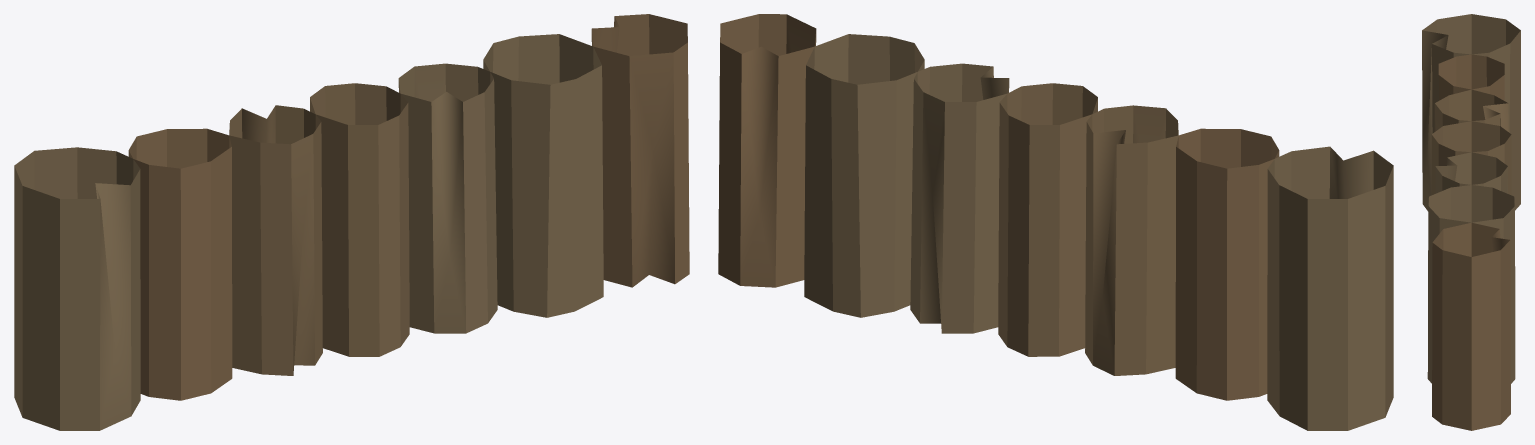
The model's file is rpgpp_ag_wall_02_3x1_c.fbx.
3 renders of one model, left to right at view 1: azimuth 30°, elevation 25°; view 2: azimuth 150°, elevation 25°; view 3: azimuth 270°, elevation 25°, orthographic. The views are drawn at different scales.
Parts seen in each view (by area): view 1: rpgpp_ag_wall_02_3x1_c; view 2: rpgpp_ag_wall_02_3x1_c; view 3: rpgpp_ag_wall_02_3x1_c.
Part boxes in pixels (left/top/right/bottom): rpgpp_ag_wall_02_3x1_c: left=14, top=14, right=689, bottom=430; rpgpp_ag_wall_02_3x1_c: left=718, top=14, right=1393, bottom=430; rpgpp_ag_wall_02_3x1_c: left=1422, top=14, right=1520, bottom=430.
Bounding box in the file's own units: 3 × 1 × 0.5158.
